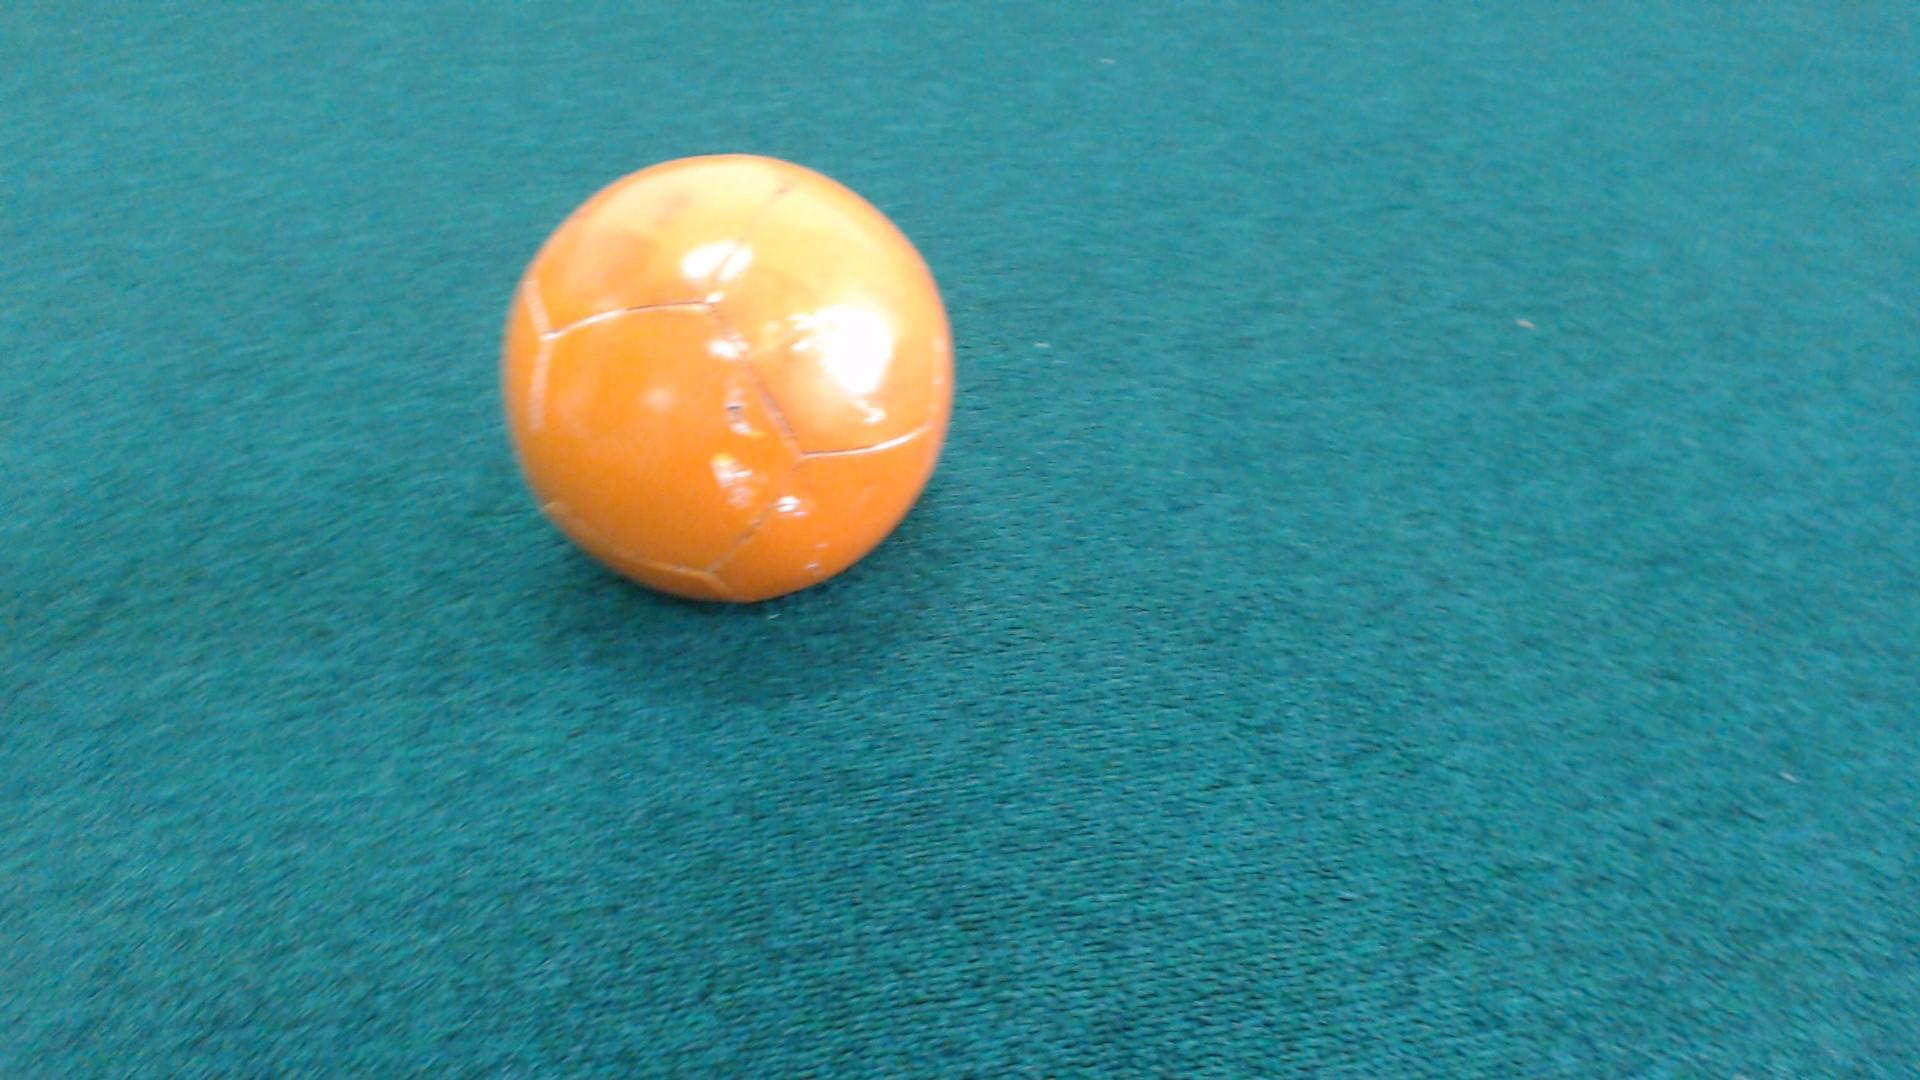bola: (468, 140, 967, 637)
